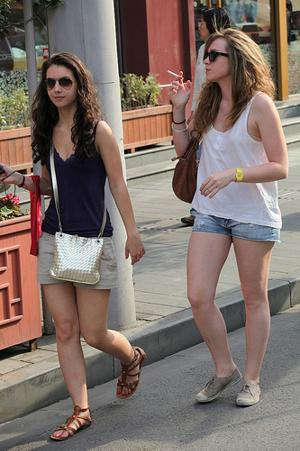person: (170, 29, 290, 408)
